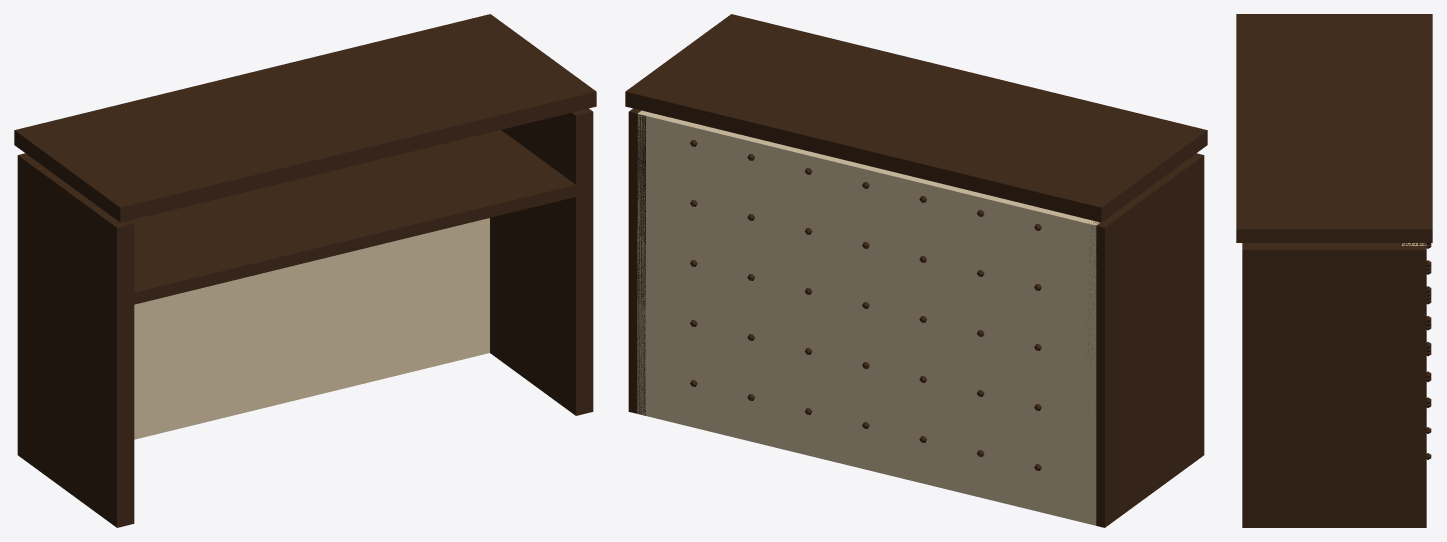
Rendered from desk.obj.
3 views of the same model, side by side, from view 1: azimuth 30°, elevation 25°; view 2: azimuth 150°, elevation 25°; view 3: azimuth 270°, elevation 25° (orthographic). The views are drawn at different scales.
Parts seen in each view (by area): view 1: desk_36, desk_0, desk_37, desk_39, desk_38; view 2: desk_0, desk_36, desk_37, desk_38; view 3: desk_38, desk_36.
Boxes of the visible parts, box(x1,y1,x2,y2) form: desk_36: box(14, 14, 596, 222); desk_0: box(134, 218, 489, 439); desk_37: box(17, 153, 134, 527); desk_39: box(126, 130, 584, 306); desk_38: box(490, 108, 593, 415); desk_0: box(637, 110, 1100, 525); desk_36: box(625, 14, 1207, 222); desk_37: box(1088, 153, 1204, 527); desk_38: box(628, 108, 645, 415); desk_38: box(1242, 243, 1426, 527); desk_36: box(1236, 14, 1432, 242).
Bounding box in the file's own units: 1.66 × 1.08 × 0.64.
